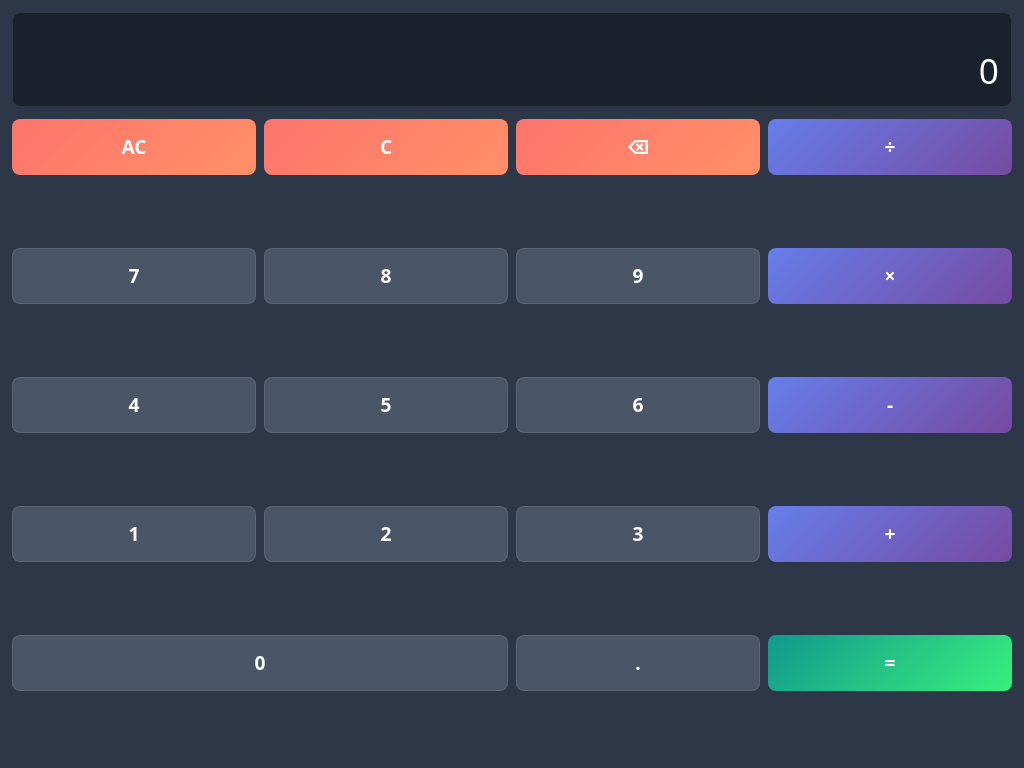
Test: CalculatorApp › Error Handling › handles division by zero
Click the button "5".
click(386, 405)  # box [264,377,508,433]
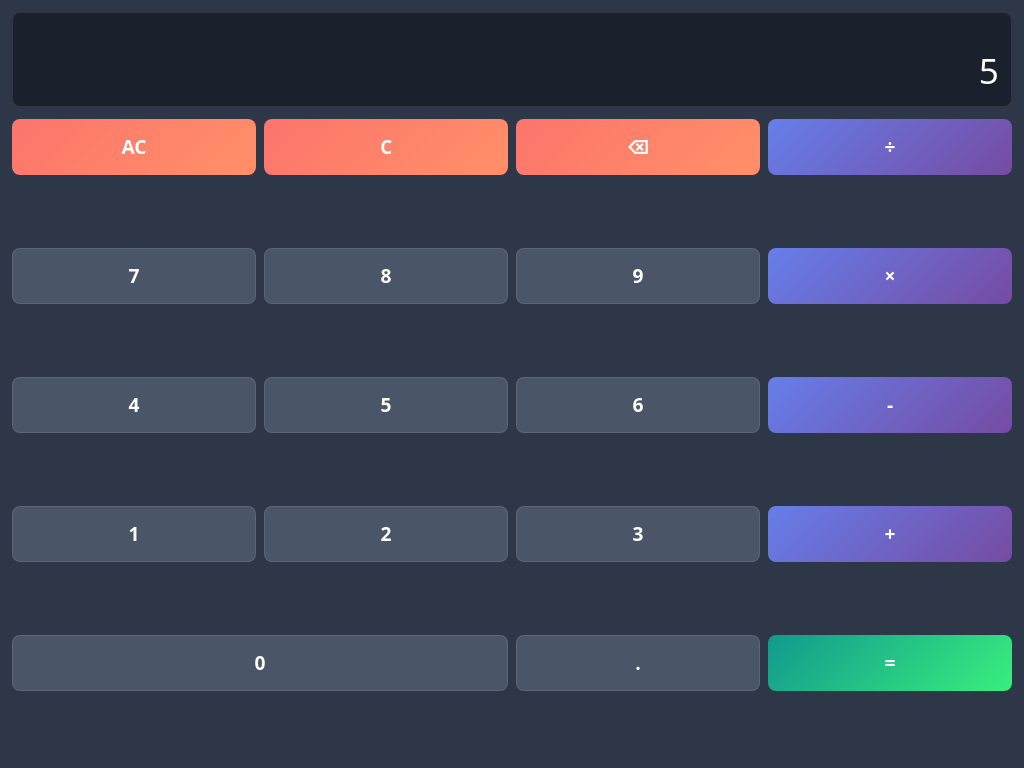
Click the button "÷".
click(890, 146)  # box [768,118,1012,174]
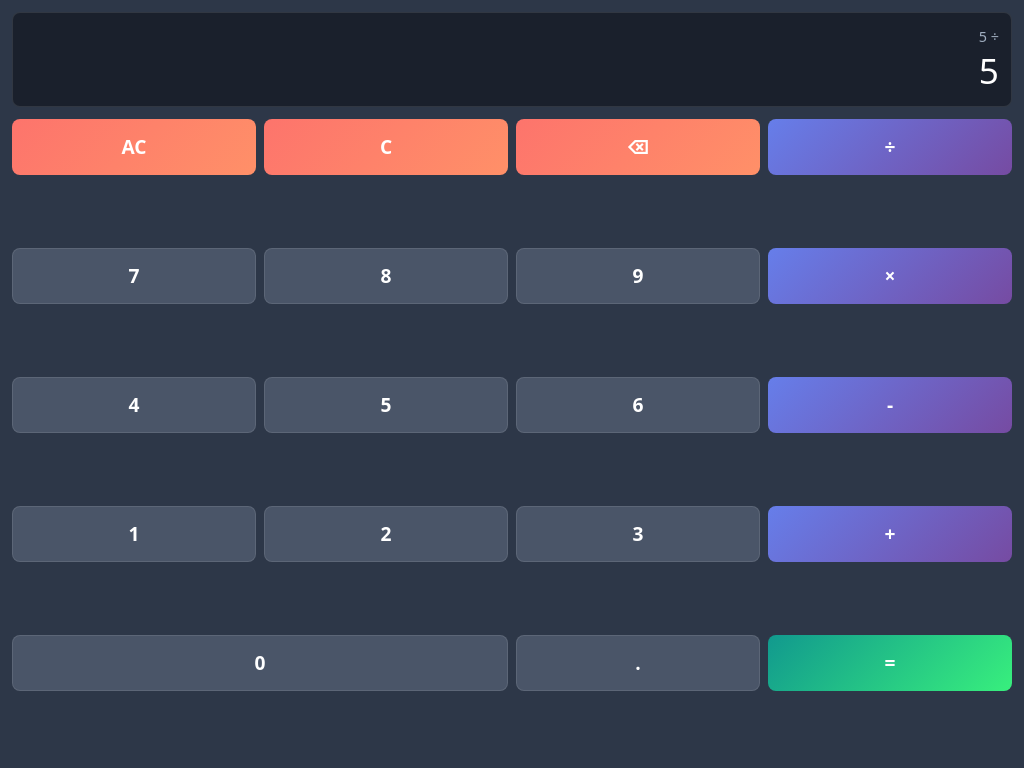
Click the button "0".
click(260, 663)  # box [12,635,508,691]
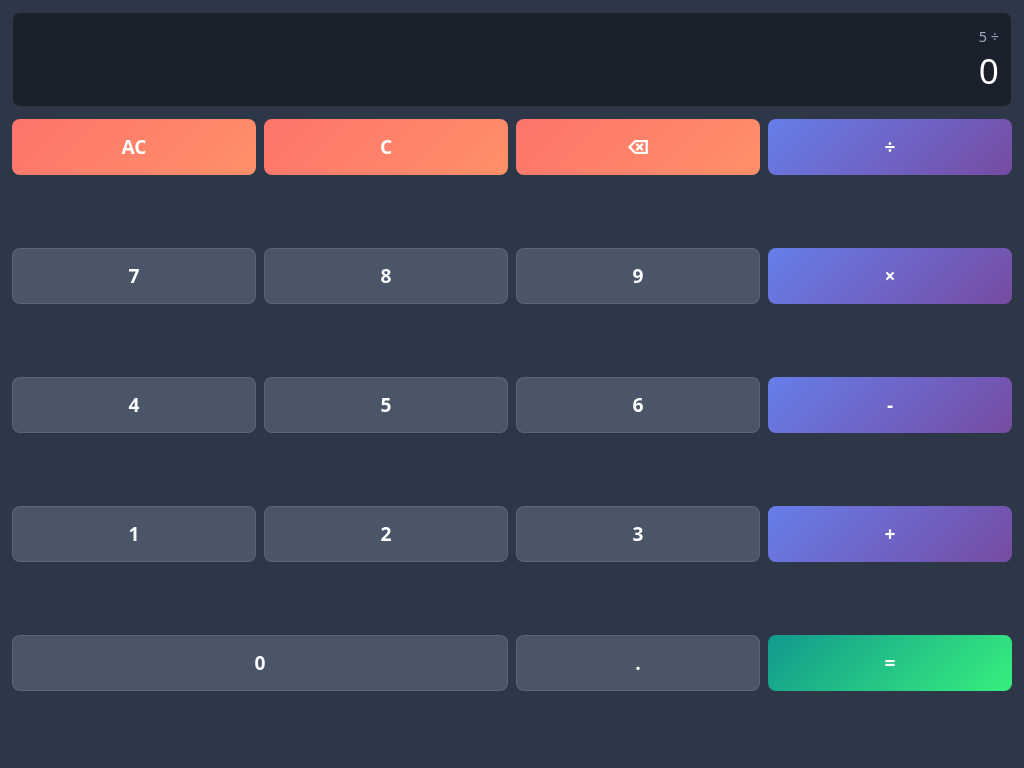
Click the button "=".
click(890, 663)  # box [768,635,1012,691]
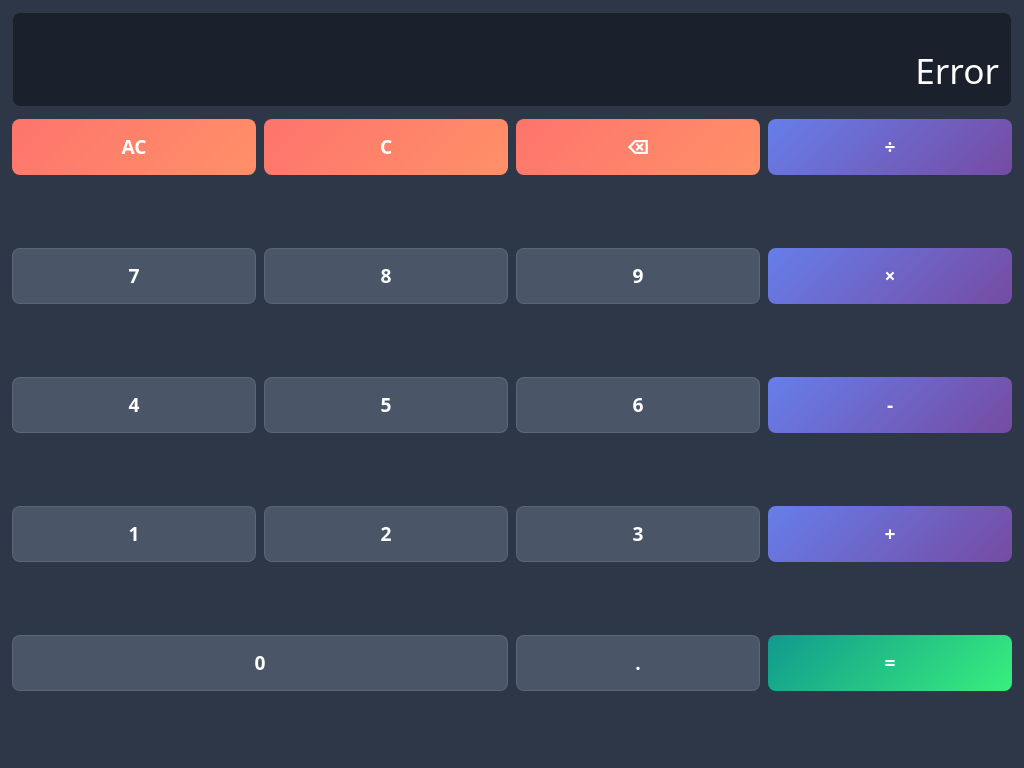
expect the text with class "display-value" reads "Error": met, box [915,46,999,94]
